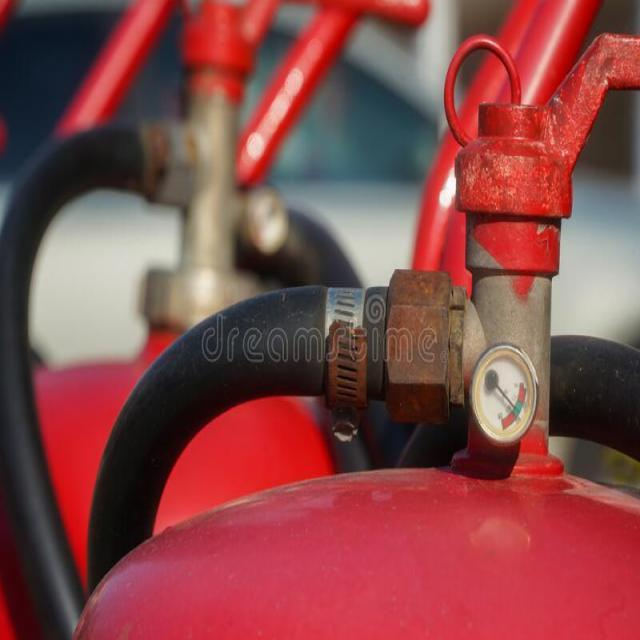fire_extinguisher: (57, 25, 639, 639), (0, 2, 378, 638)
